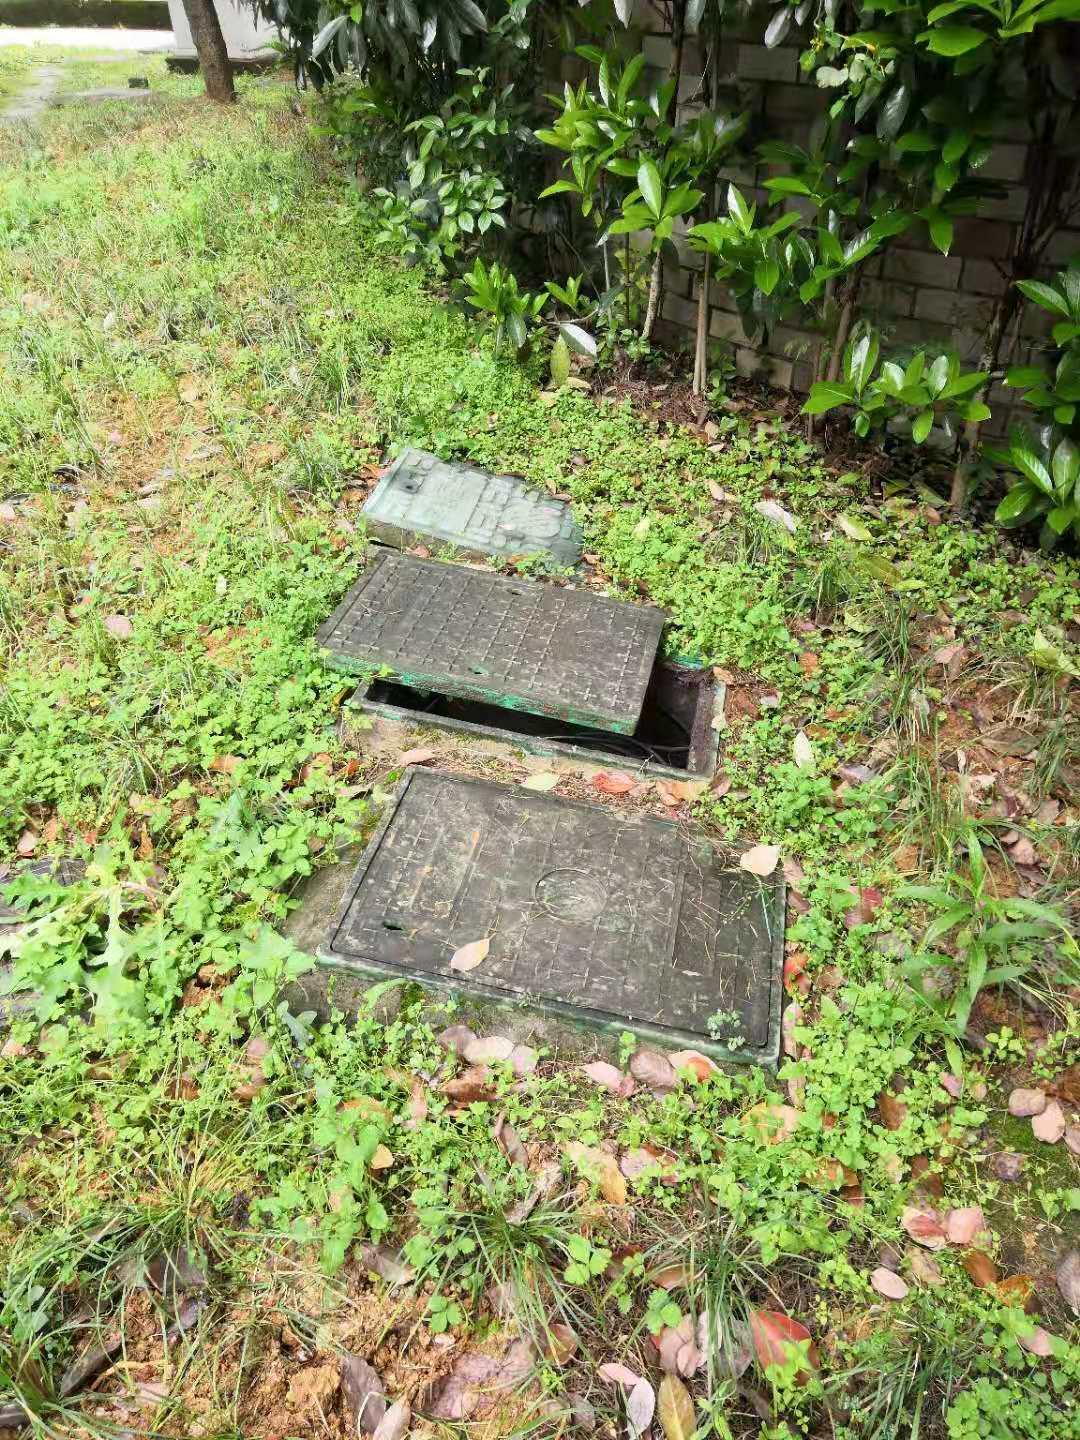wellcover: (294, 736, 821, 1091), (315, 549, 761, 777), (338, 429, 615, 577)
